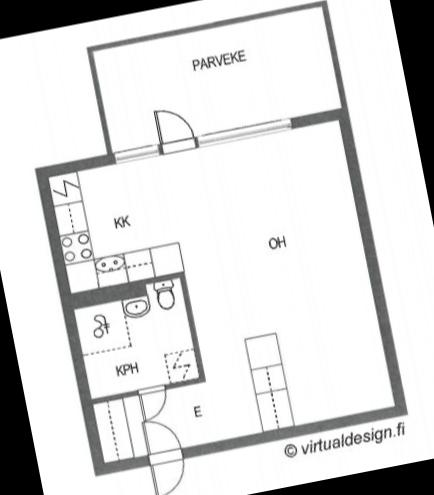door: (150, 99, 201, 155), (138, 413, 185, 465), (145, 446, 192, 495), (136, 382, 172, 418)
window: (192, 113, 296, 149), (108, 139, 166, 166)
